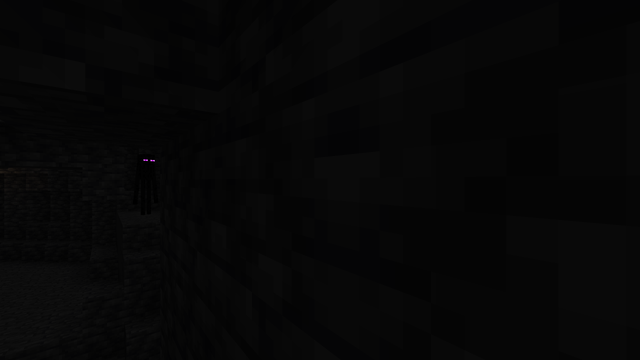endermens: (137, 151, 153, 214)
